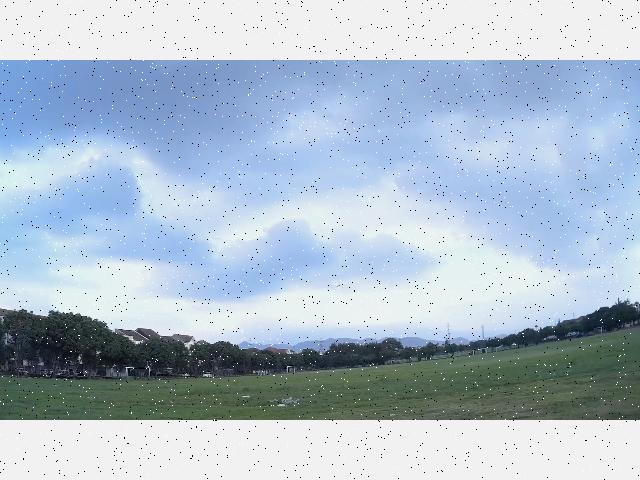Anti-Drone: (327, 279, 349, 295)
